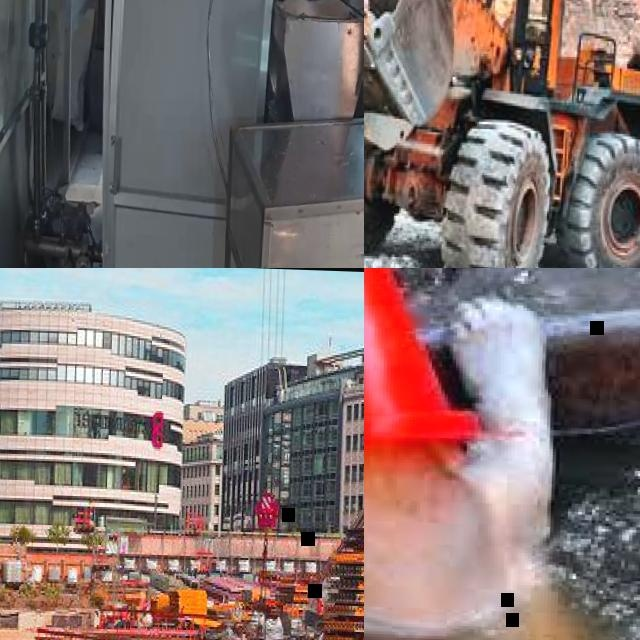Hardhat: (316, 589, 320, 596)
Person: (315, 591, 323, 615)
Safety Cone: (364, 268, 477, 472)
Safety Vest: (316, 597, 322, 612)
machinery: (364, 0, 640, 268)
